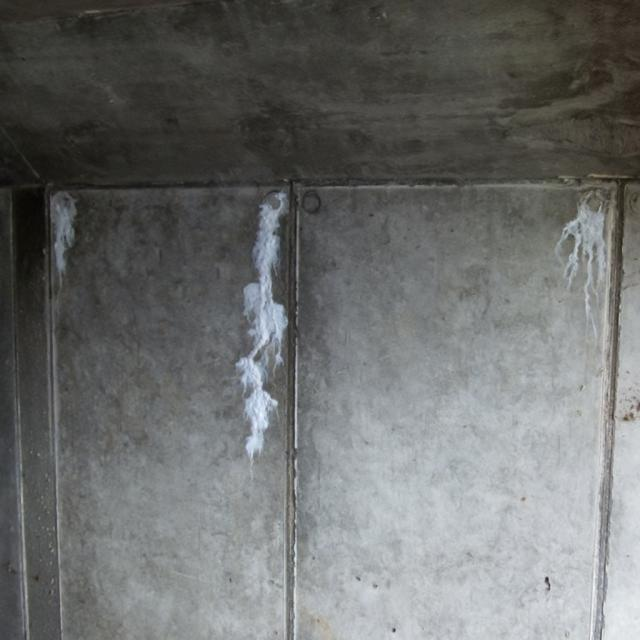D01: (238, 190, 288, 461), (46, 194, 77, 285)
